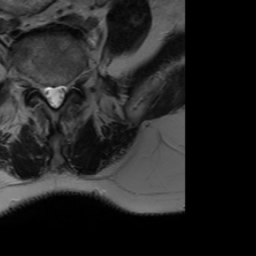CCS_normal: (50, 77, 59, 114)
LFS_stenosis: (67, 69, 76, 98)
LLS_normal: (59, 76, 67, 108)
RFS_normal: (32, 71, 42, 100)
RLS_normal: (42, 78, 50, 107)
